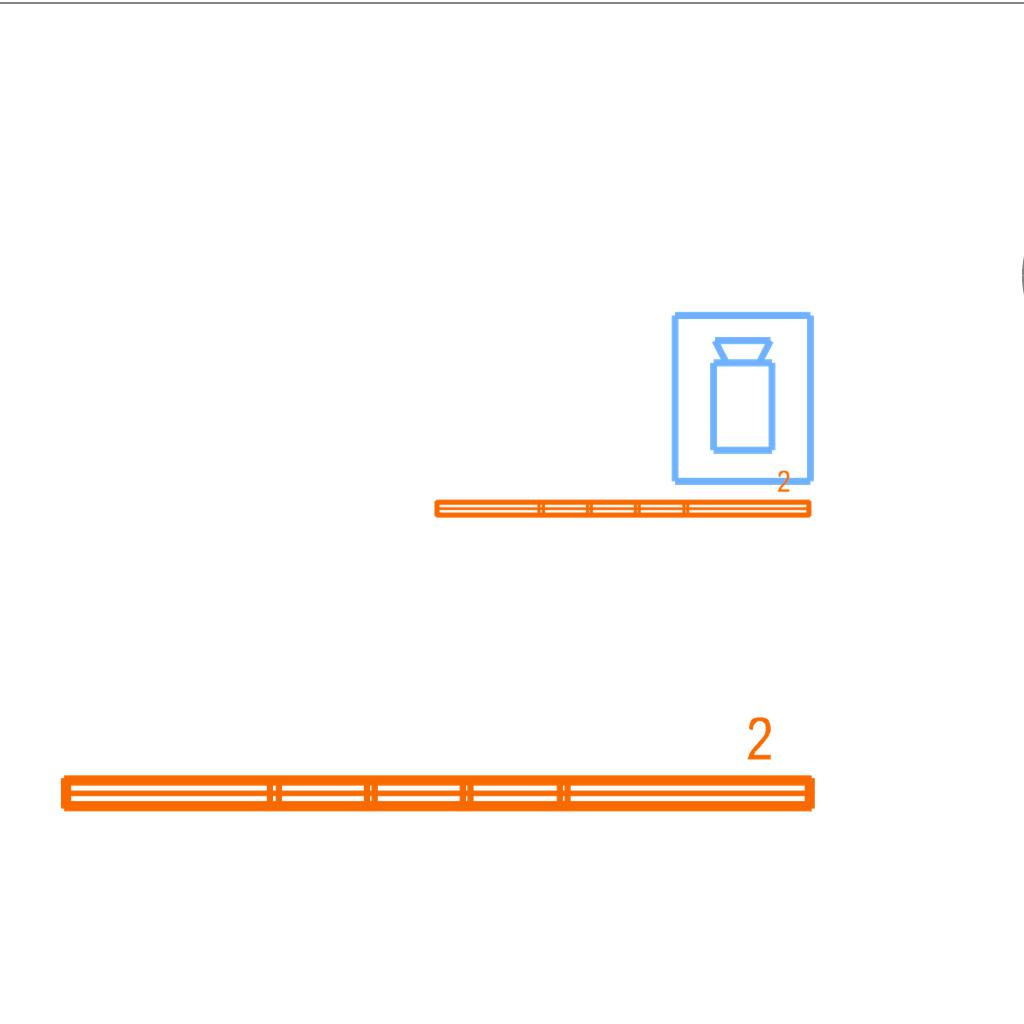Ambulanz_Pendelleuchte_LED: (50, 712, 824, 824), (429, 468, 816, 524)
KFO_Kamera_mit_Festobjektiv: (667, 308, 821, 490)
